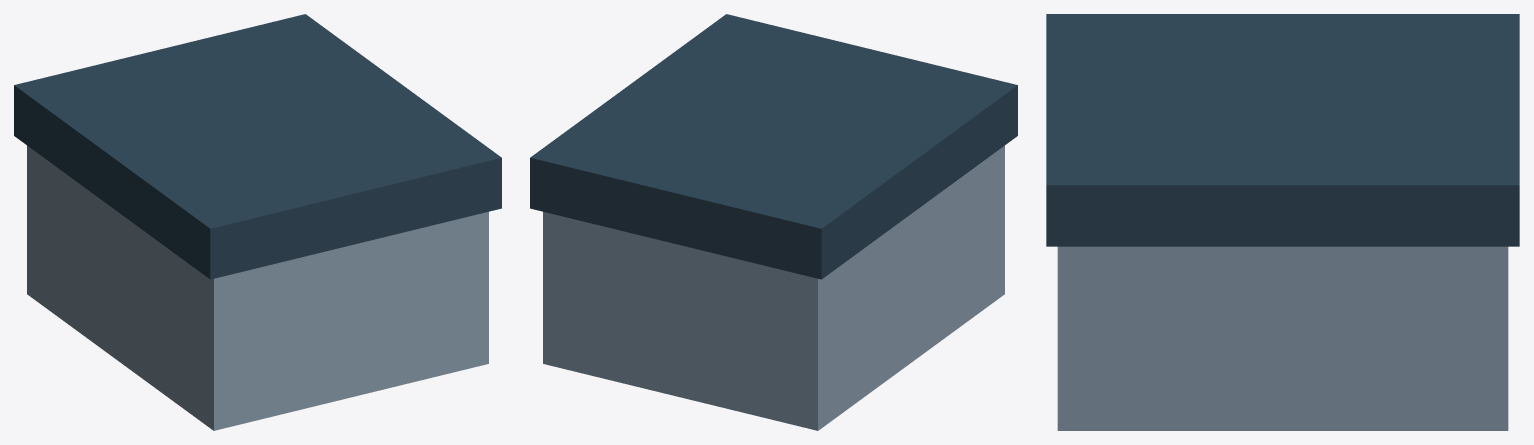
File: shoulder-1.obj
3 renders of one model, left to right at view 1: azimuth 30°, elevation 25°; view 2: azimuth 150°, elevation 25°; view 3: azimuth 270°, elevation 25°, orthographic. The views are drawn at different scales.
Size of the model in its own units: 0.36 by 0.245 by 0.42.
